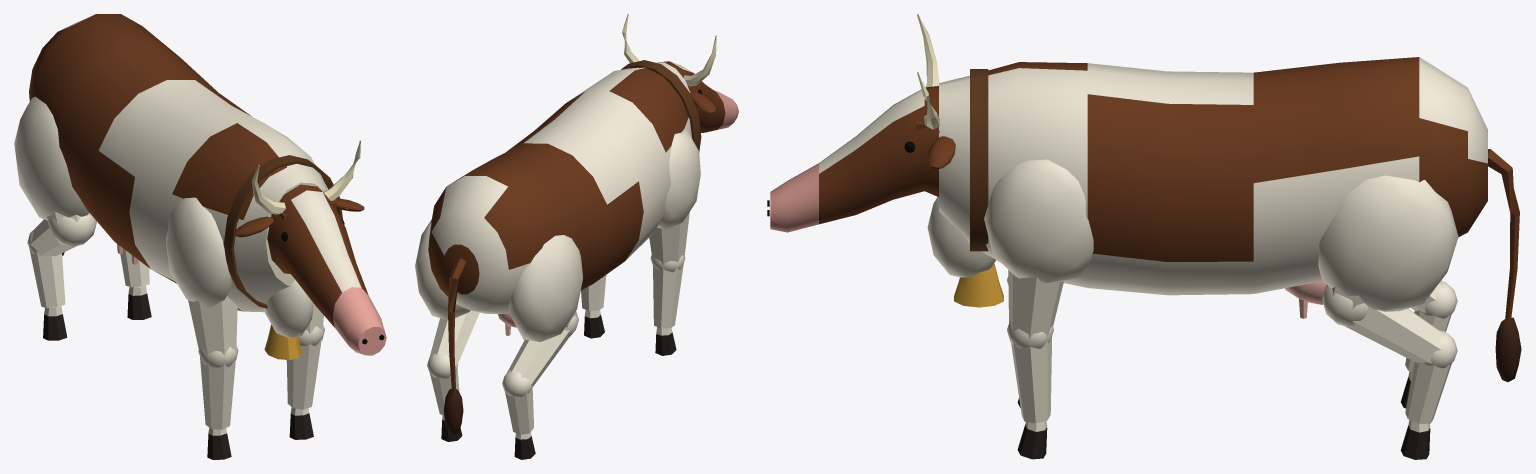
The model's file is cow.glb.
3 renders of one model, left to right at view 1: azimuth 30°, elevation 25°; view 2: azimuth 150°, elevation 25°; view 3: azimuth 270°, elevation 25°, orthographic. The views are drawn at different scales.
Parts seen in each view (by area): view 1: cow_mesh; view 2: cow_mesh; view 3: cow_mesh.
Part boxes in pixels (x1=…): cow_mesh: x1=14, y1=14, x2=386, y2=459; cow_mesh: x1=415, y1=14, x2=738, y2=459; cow_mesh: x1=767, y1=14, x2=1521, y2=459.
Bounding box in the file's own units: 0.7875 × 1.5 × 2.64.
